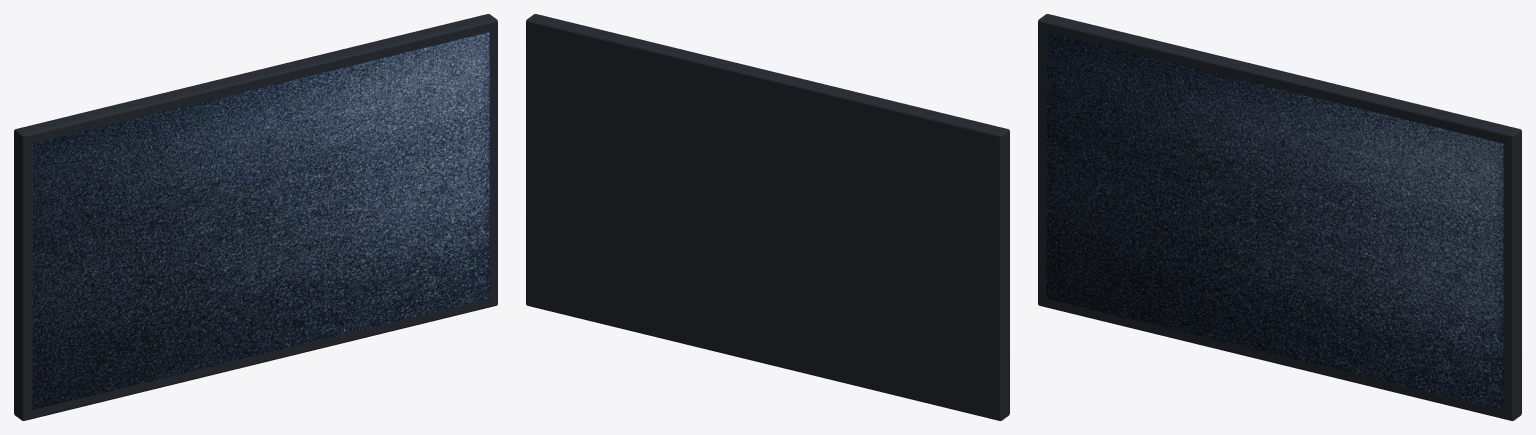
File: FlatStaticTV.glb
The picture shows the model from 3 angles, left to right: view 1: azimuth 30°, elevation 25°; view 2: azimuth 150°, elevation 25°; view 3: azimuth 330°, elevation 25°; orthographic projection.
Visible parts, largest first — view 1: TV_StaticScreen, TV_SlimFrame; view 2: TV_SlimFrame; view 3: TV_StaticScreen, TV_SlimFrame.
Boxes of the visible parts, bbox=[...] form: TV_StaticScreen: bbox=[32, 32, 489, 409]; TV_SlimFrame: bbox=[14, 14, 497, 420]; TV_SlimFrame: bbox=[526, 14, 1009, 420]; TV_StaticScreen: bbox=[1046, 32, 1503, 409]; TV_SlimFrame: bbox=[1038, 14, 1521, 420].
Size of the model in its own units: 8 by 4.6 by 0.285.
Materials: 2 (1 with a texture image).
